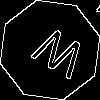W: (25, 25, 89, 88)
